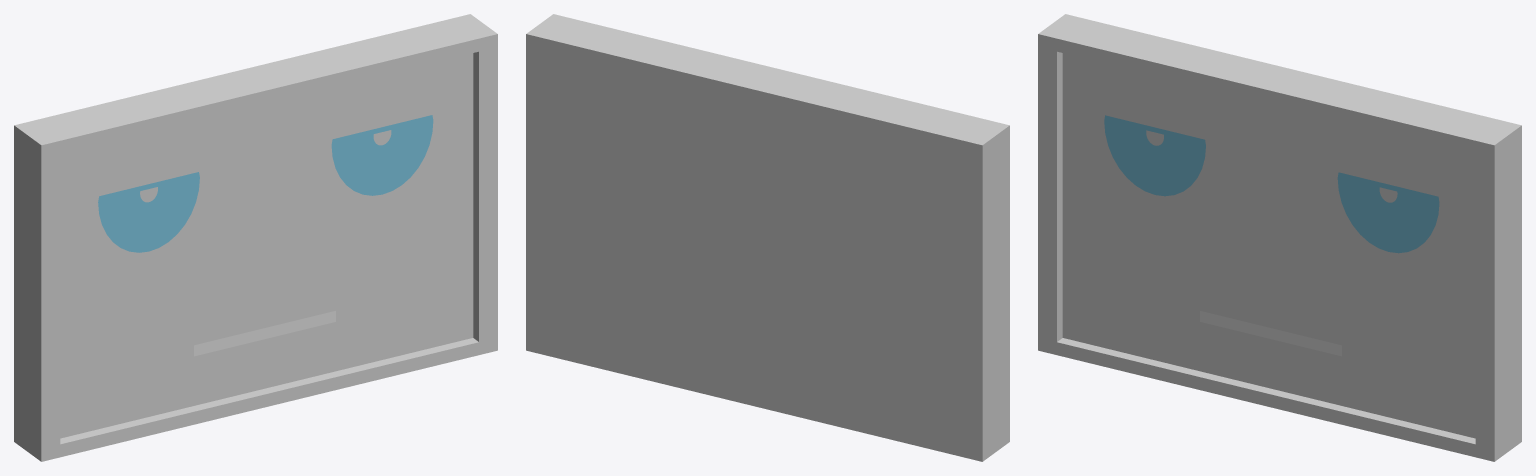
Rendered from Screen with face.fbx.
3 renders of one model, left to right at view 1: azimuth 30°, elevation 25°; view 2: azimuth 150°, elevation 25°; view 3: azimuth 330°, elevation 25°, orthographic.
Parts seen in each view (by area): view 1: Cube.001, Cube, Circle, Plane; view 2: Cube; view 3: Cube.001, Cube, Circle, Plane.
Boxes of the visible parts, x1,y1,x2,y2 form: Cube.001: (60, 53, 473, 438); Cube: (14, 14, 497, 461); Circle: (98, 115, 433, 252); Plane: (194, 311, 335, 356); Cube: (526, 14, 1009, 461); Cube.001: (1062, 53, 1475, 438); Cube: (1038, 14, 1521, 461); Circle: (1104, 115, 1439, 253); Plane: (1200, 311, 1341, 356).
Size of the model in its own units: 329 by 218 by 34.14.
